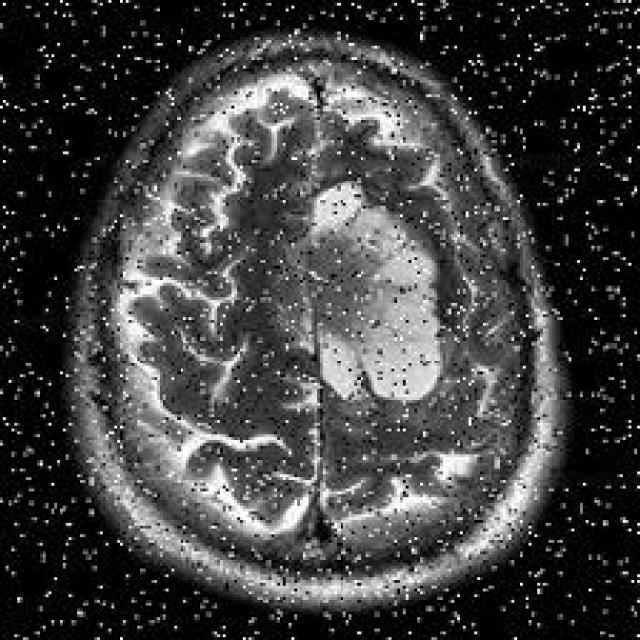meningioma_tumor: (301, 171, 448, 418)
